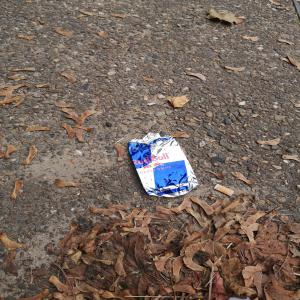Can: (125, 130, 203, 202)
